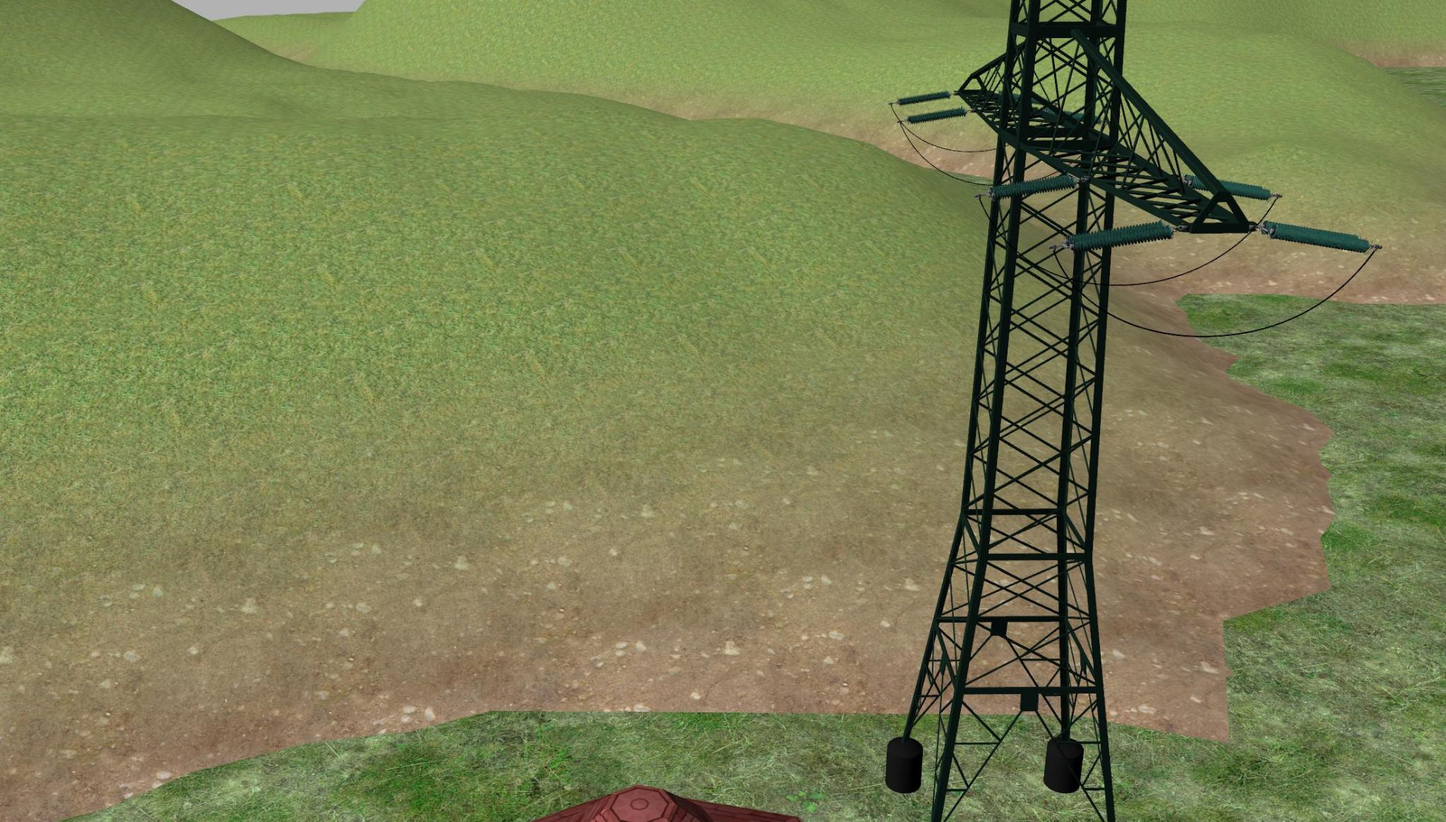tower: (899, 1, 1246, 792)
